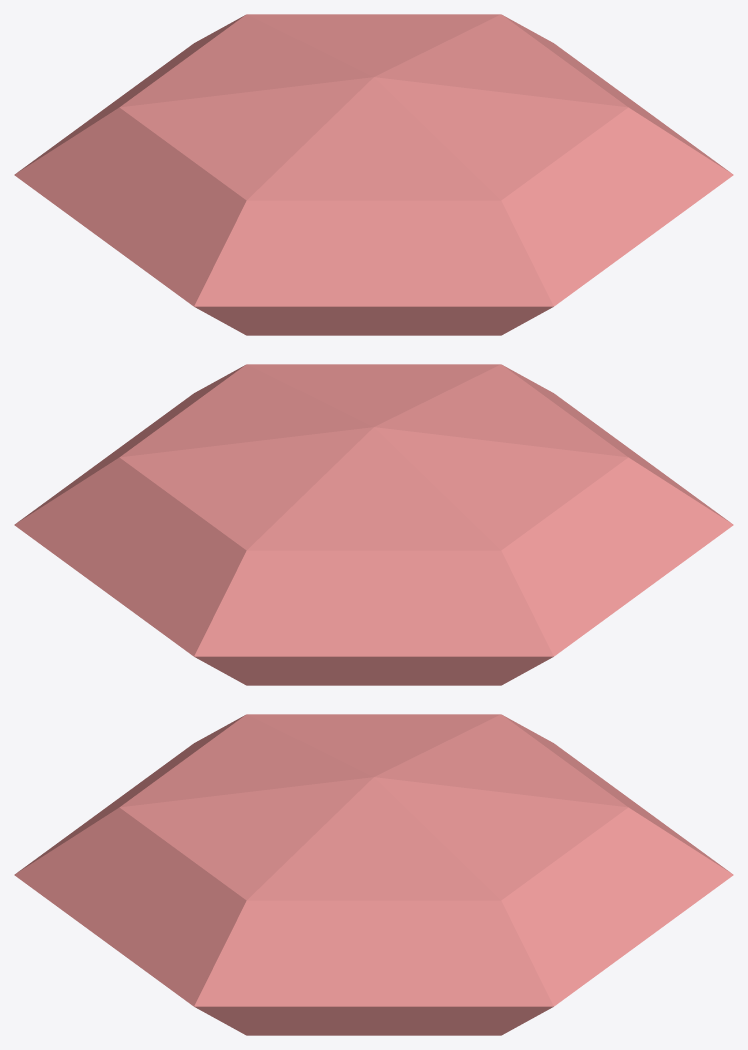
File: Marker_0.glb
The picture shows the model from 3 angles, top to bottom: view 1: azimuth 30°, elevation 25°; view 2: azimuth 150°, elevation 25°; view 3: azimuth 270°, elevation 25°; orthographic projection.
Visible parts, largest first — view 1: Marker; view 2: Marker; view 3: Marker.
Boxes of the visible parts, left/top/right/bottom form: Marker: left=14, top=14, right=733, bottom=335; Marker: left=14, top=364, right=733, bottom=685; Marker: left=14, top=714, right=733, bottom=1035.
Bounding box in the file's own units: 0.6928 × 0.2028 × 0.8.
